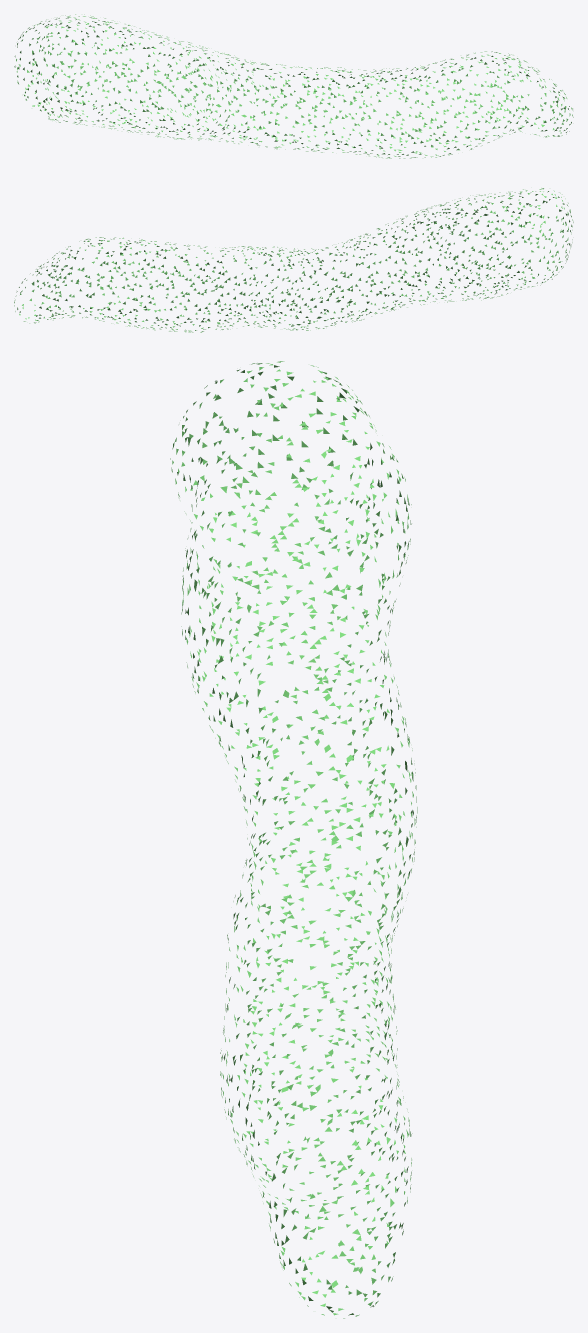
The model's file is morph_017.glb.
The picture shows the model from 3 angles, top to bottom: view 1: azimuth 30°, elevation 25°; view 2: azimuth 150°, elevation 25°; view 3: azimuth 270°, elevation 25°; orthographic projection. The views are drawn at different scales.
Bounding box in the file's own units: 125 × 53.21 × 25.14.
